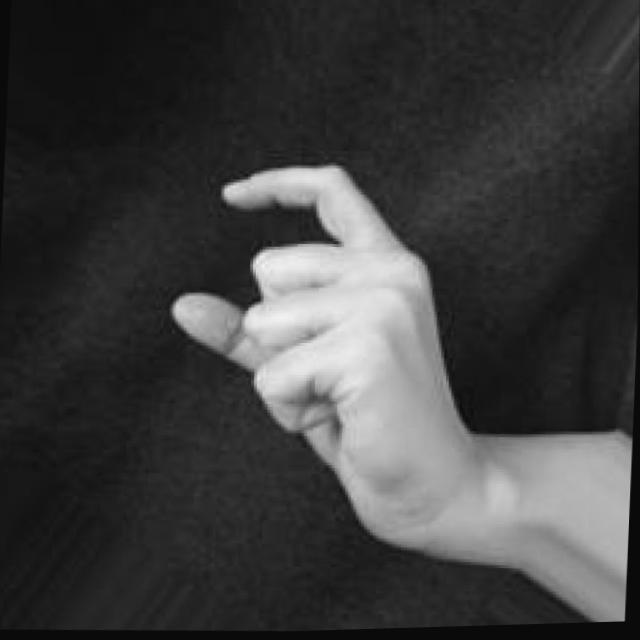C: (149, 147, 498, 575)
